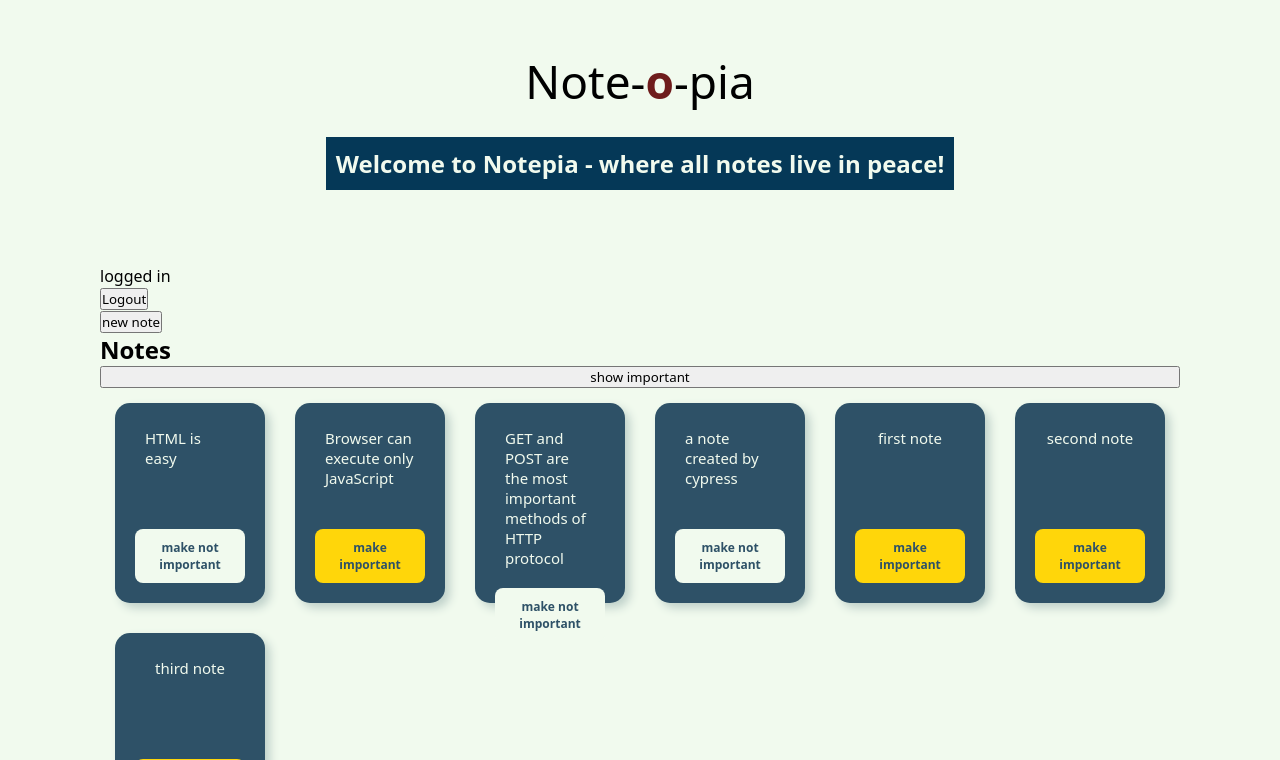
Test case: Note app › User Journey › when logged in › and several notes exist › one of those can be made important
Click the button "make important" below "second note": click(1090, 556) [1035,529,1145,583]
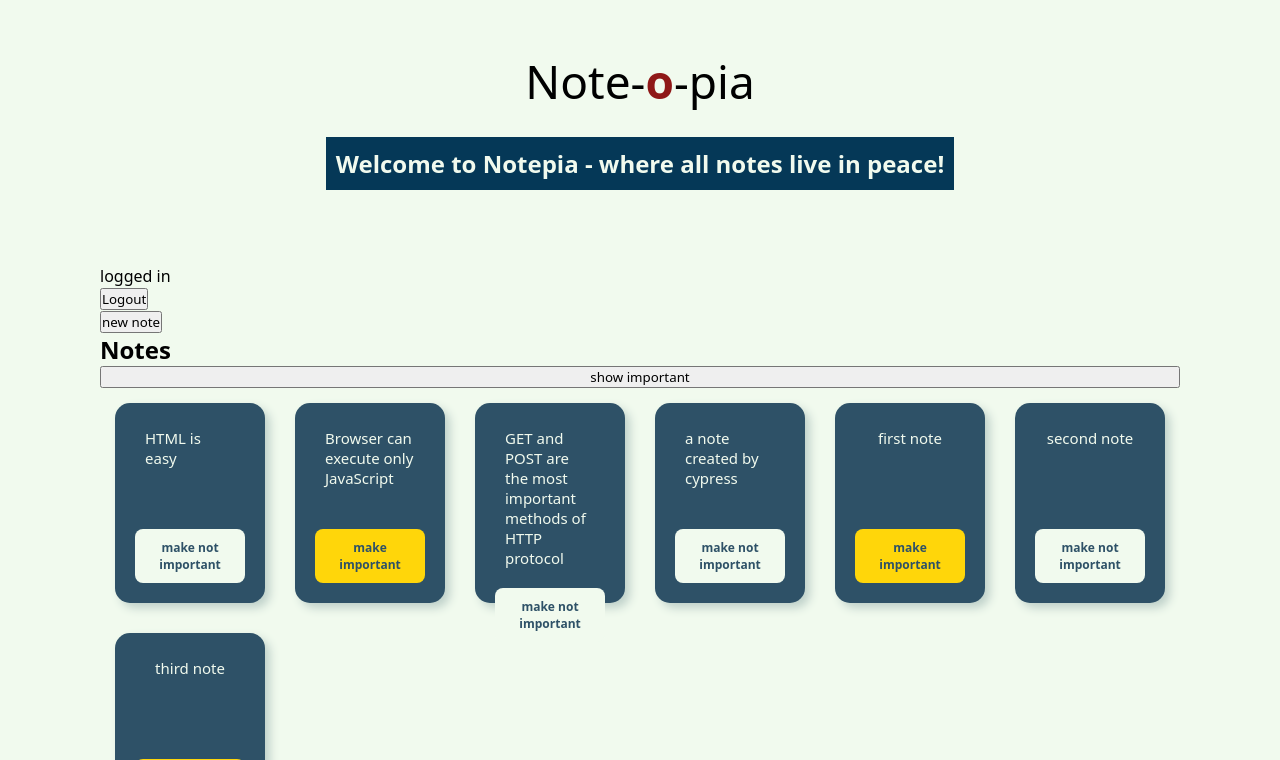
Result: the button "make not important" below "second note" is shown at [1035,529,1145,583]
